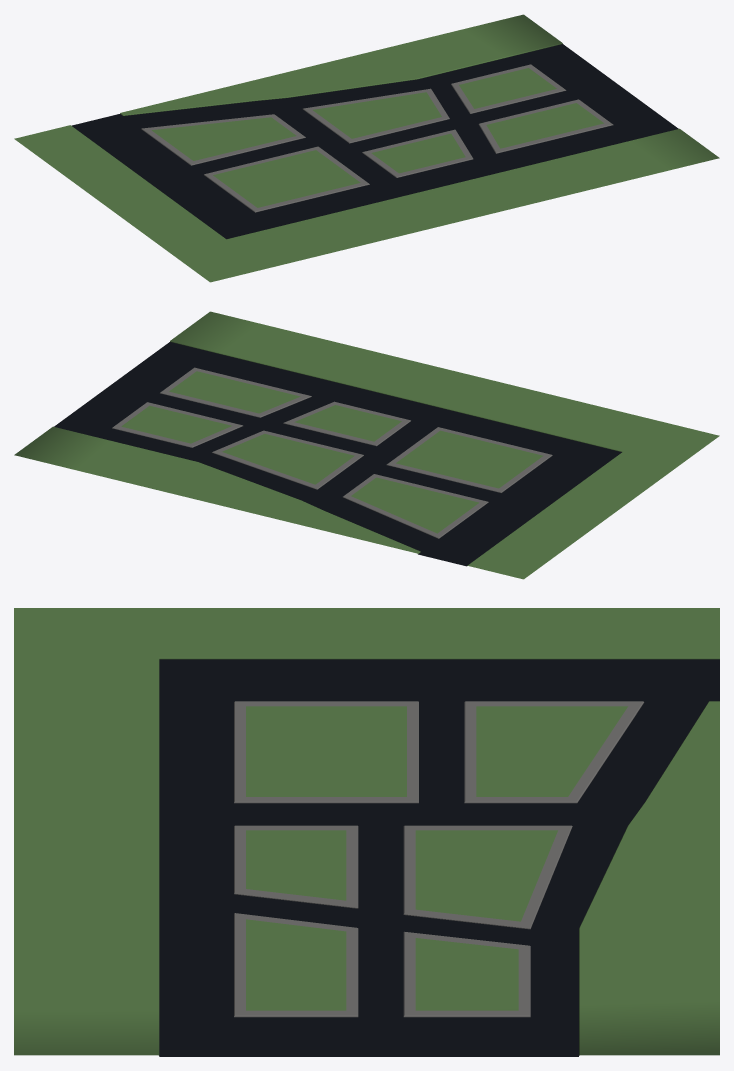
Rendered from Map 1.fbx.
The picture shows the model from 3 angles, top to bottom: view 1: azimuth 30°, elevation 25°; view 2: azimuth 150°, elevation 25°; view 3: azimuth 270°, elevation 25°; orthographic projection. The views are drawn at different scales.
Visible parts, largest first — view 1: Plane.020; view 2: Plane.020; view 3: Plane.020.
Boxes of the visible parts, box(x1,y1,x2,y2) form: Plane.020: box(14, 14, 719, 282); Plane.020: box(14, 311, 719, 579); Plane.020: box(14, 608, 719, 1056).
Bounding box in the file's own units: 11023 × 16.69 × 7352.
